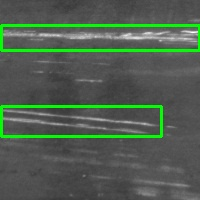scratches: (1, 25, 199, 50), (1, 106, 161, 136)
